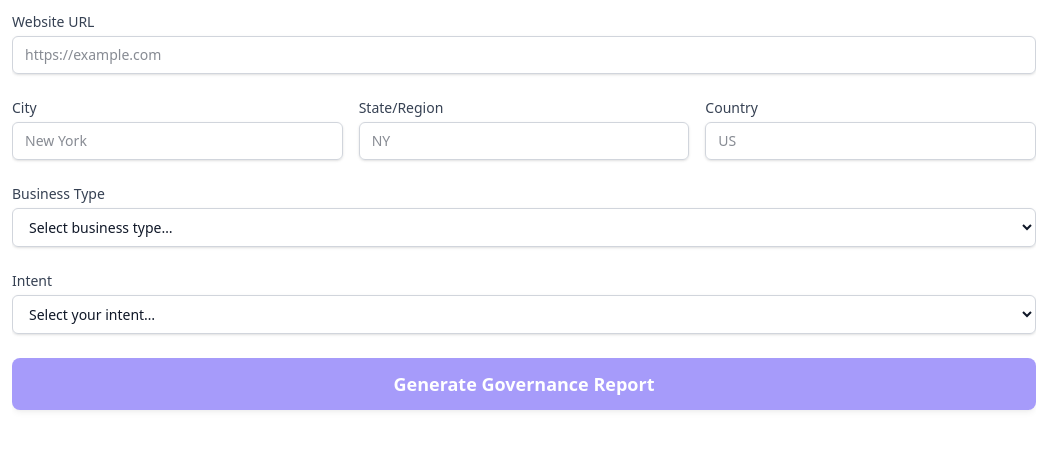
Scenario: InputForm › shows validation error for invalid URL
This screenshot has width=1048, height=453.
Step 1. Type "not-a-url" into the field labelled "Website URL" → [524, 55], box [12,36,1036,74]
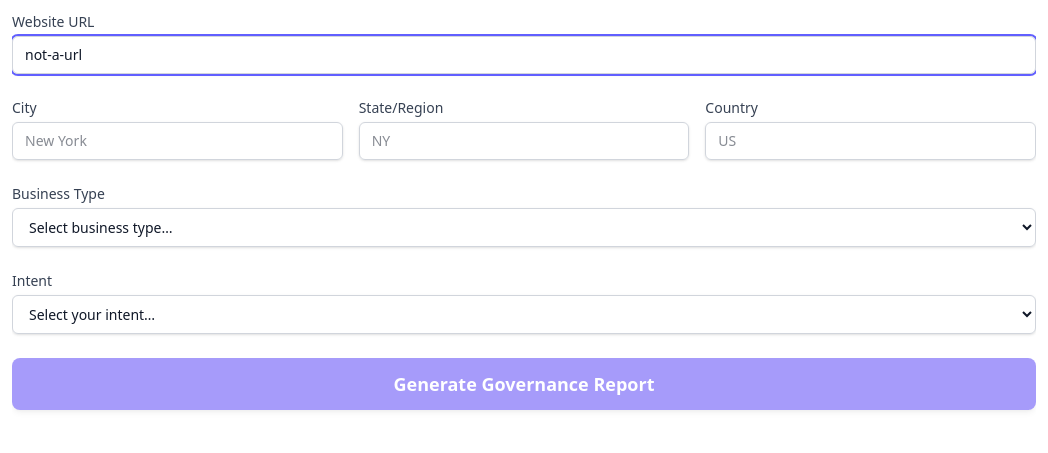
Step 2. Press Tab
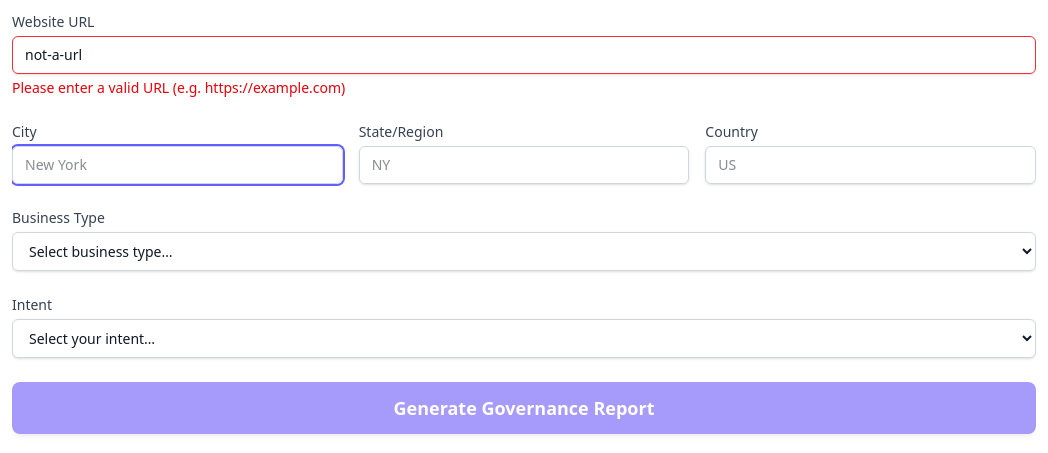
expect the text "Please enter a valid URL (e.g. https://example.com)" is shown: met, box [12,78,345,97]
